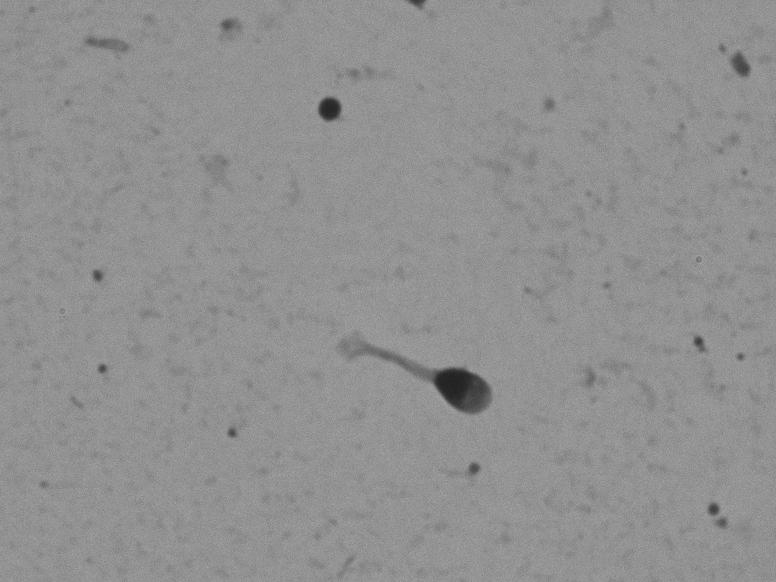Abnormal: (292, 312, 518, 445)
